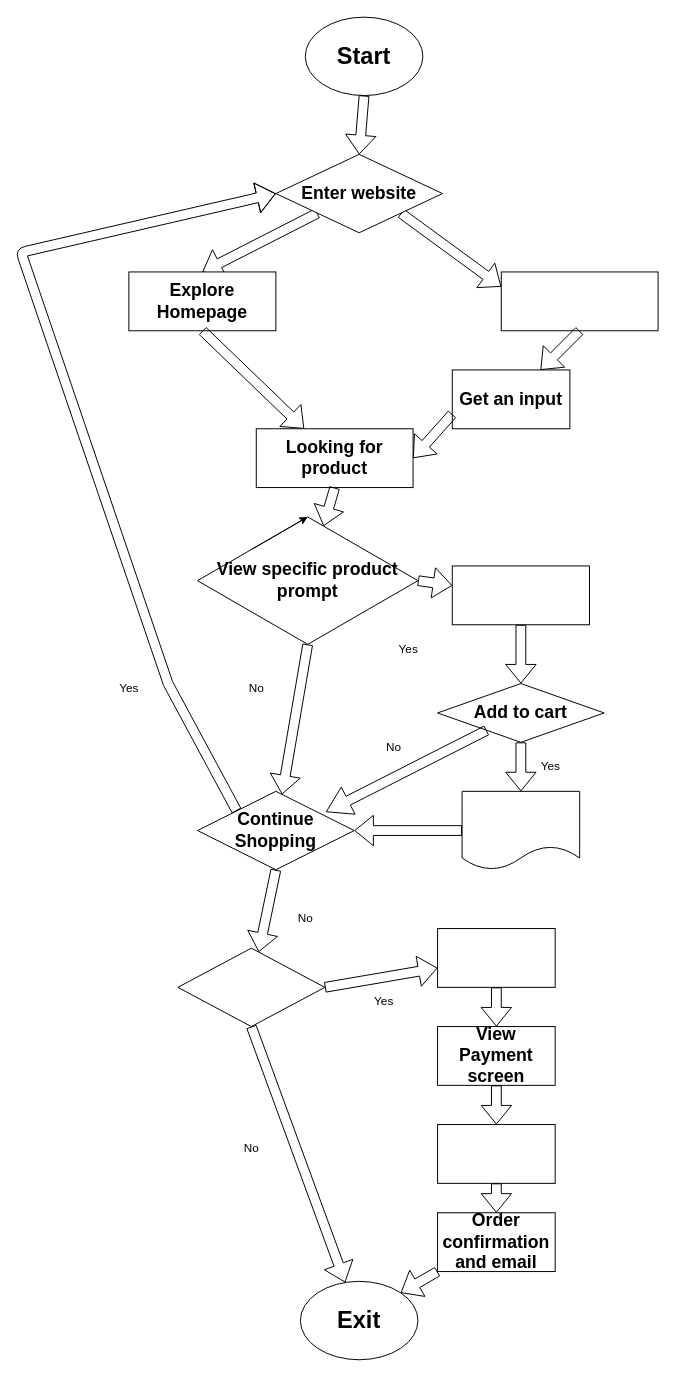
The diagram is 675 pixels wide and 1377 high, and some of its shapes have lost their labels. Here are the shapes that lost their labels. From the top down, the centre of each, then its label:
(x=579, y=301): Search for product
(x=520, y=595): Product webpage open
(x=520, y=830): Item added notification
(x=496, y=957): View Cart screen
(x=251, y=987): Checkout
(x=496, y=1153): Input payment info
